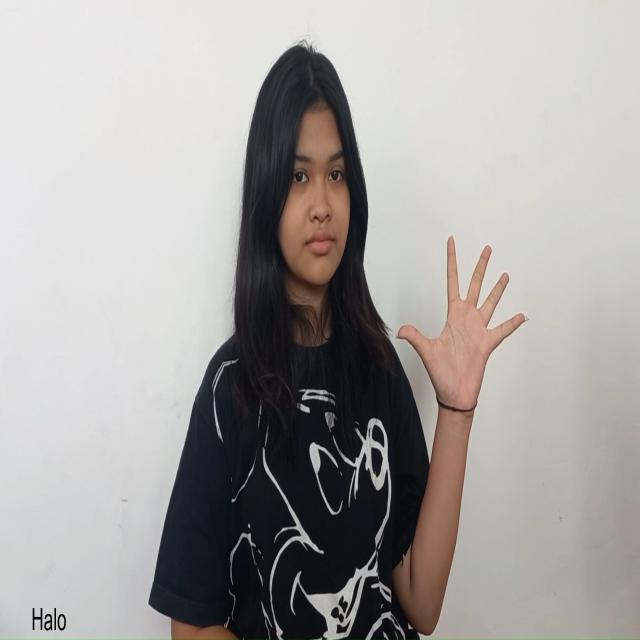Halo -BISINDO-: (396, 236, 528, 425)
